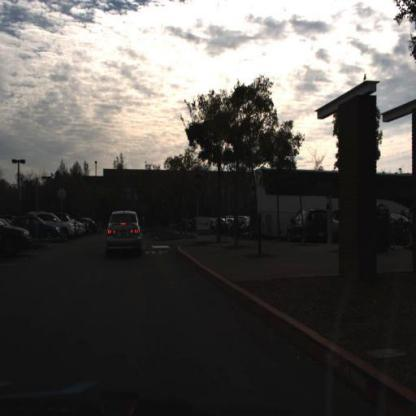car: (282, 206, 337, 246), (105, 209, 142, 260), (287, 207, 333, 244), (1, 216, 35, 261), (19, 214, 62, 245), (40, 213, 79, 246), (2, 220, 35, 252), (326, 200, 349, 242), (34, 215, 61, 239), (64, 216, 77, 239)
truck: (252, 160, 401, 230), (253, 165, 348, 239)
